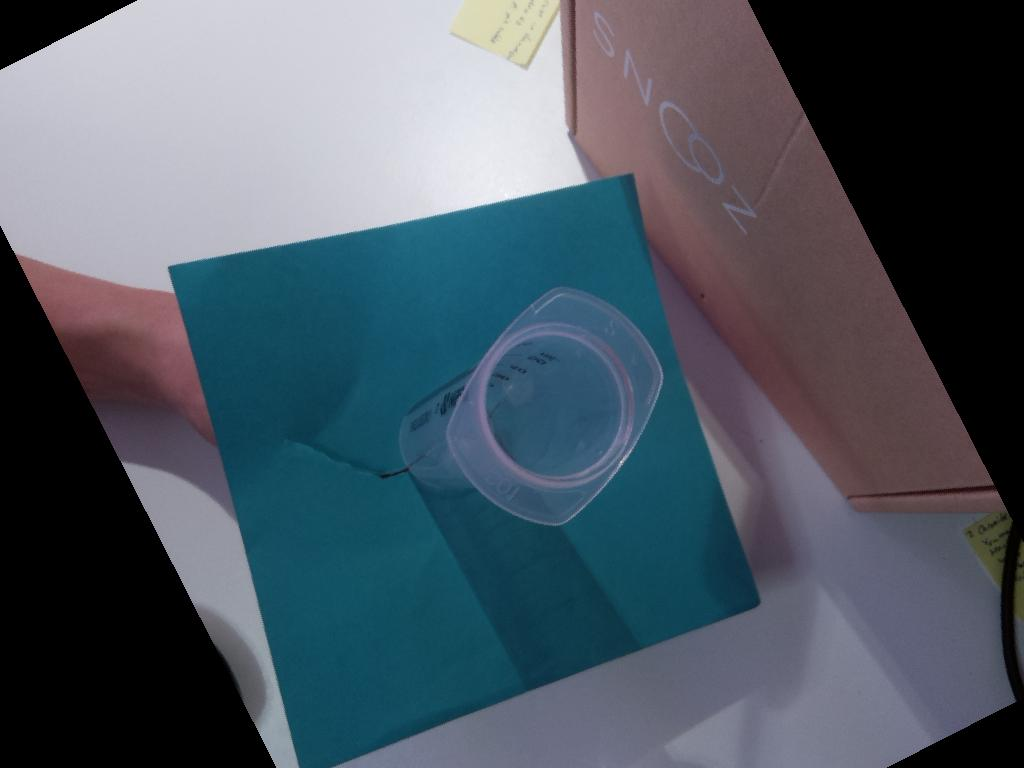clean: (446, 287, 662, 528)
